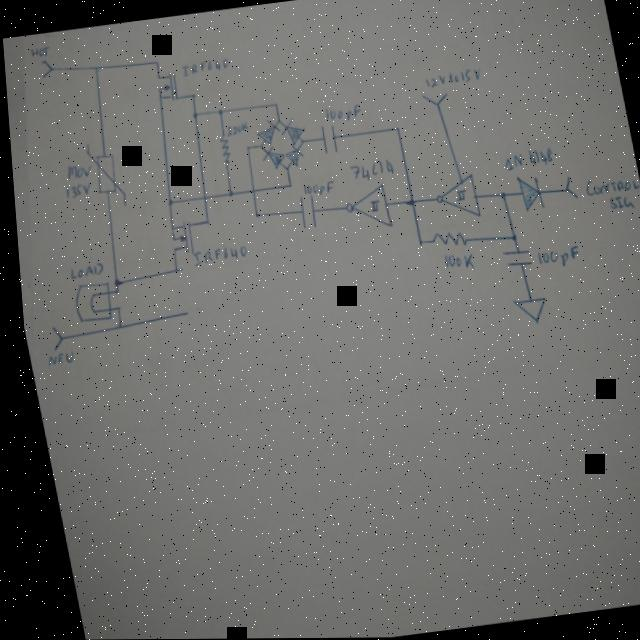capacitor: (290, 192, 316, 229), (314, 121, 338, 154), (495, 246, 528, 270)
crossover: (244, 185, 253, 194), (196, 191, 203, 200)
diode: (510, 172, 542, 214), (249, 116, 278, 146), (274, 116, 303, 144), (256, 144, 283, 169), (280, 144, 301, 166)
ground: (504, 293, 545, 326)
junction: (401, 195, 414, 208), (503, 232, 514, 244), (161, 196, 171, 207), (187, 108, 197, 119), (221, 187, 231, 198), (493, 189, 502, 200), (410, 237, 420, 246), (185, 90, 194, 100), (166, 264, 175, 273), (389, 124, 398, 133), (106, 276, 115, 285), (198, 216, 206, 225), (213, 107, 221, 116), (89, 63, 97, 72), (107, 286, 115, 295), (110, 320, 118, 329), (150, 57, 158, 66), (240, 143, 248, 151), (254, 141, 261, 150), (272, 115, 279, 124), (268, 100, 276, 107), (282, 180, 289, 188), (109, 303, 116, 311), (295, 137, 301, 146), (248, 211, 255, 218), (280, 164, 287, 171), (178, 309, 183, 315)
resistor: (425, 228, 464, 250), (213, 132, 229, 169)
terminal: (416, 90, 447, 108), (558, 173, 576, 200), (42, 323, 58, 350), (36, 57, 51, 77)
text: (420, 66, 479, 90), (579, 172, 637, 196), (497, 146, 551, 171), (186, 243, 242, 265), (343, 158, 391, 182), (530, 244, 576, 269), (176, 56, 229, 77), (319, 101, 360, 124), (437, 249, 469, 272), (62, 260, 100, 279), (297, 179, 331, 197), (57, 180, 89, 199), (60, 161, 89, 180), (603, 193, 630, 212), (38, 349, 68, 366), (221, 120, 247, 136), (26, 44, 48, 58)
transistor: (161, 218, 191, 256), (151, 70, 178, 102)
